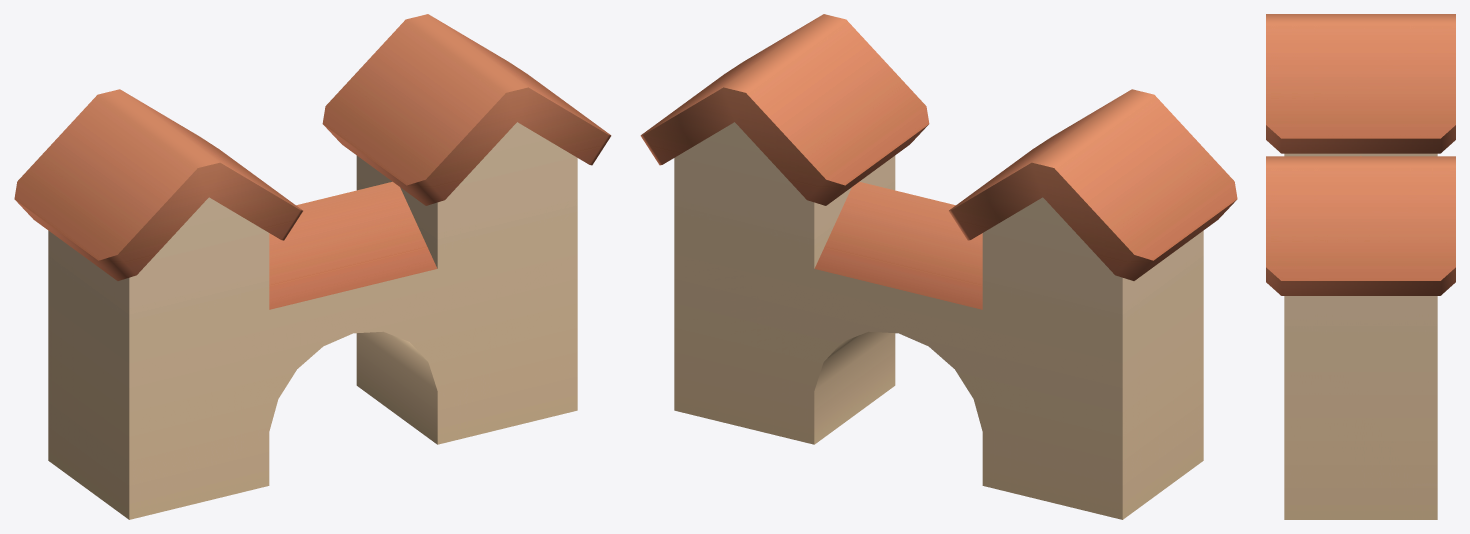
File: structure-gate-building.glb
3 renders of one model, left to right at view 1: azimuth 30°, elevation 25°; view 2: azimuth 150°, elevation 25°; view 3: azimuth 270°, elevation 25°, orthographic. The views are drawn at different scales.
Visible parts, largest first — view 1: structure-gate-building; view 2: structure-gate-building; view 3: structure-gate-building.
Boxes of the visible parts, <box> form: structure-gate-building: <box>14,14,611,519</box>; structure-gate-building: <box>640,14,1237,519</box>; structure-gate-building: <box>1266,14,1455,519</box>.
Size of the model in its own units: 0.9155 by 0.5877 by 0.31.
Materials: 1 (1 with a texture image).
